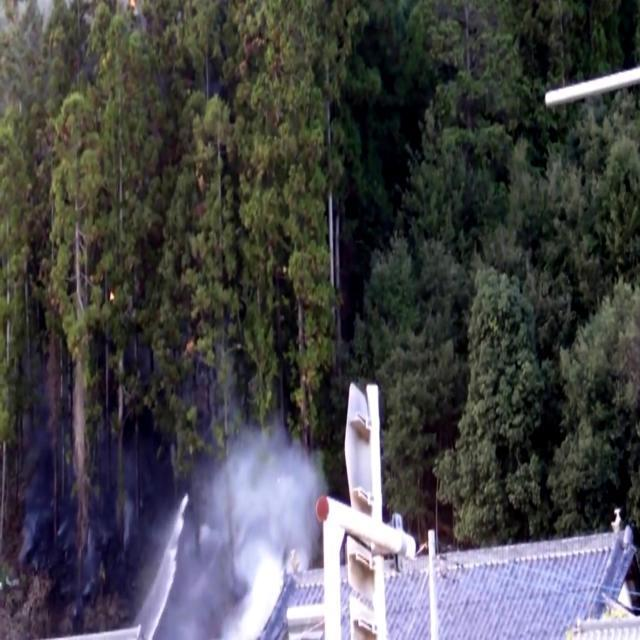Smoke: (177, 411, 331, 640)
